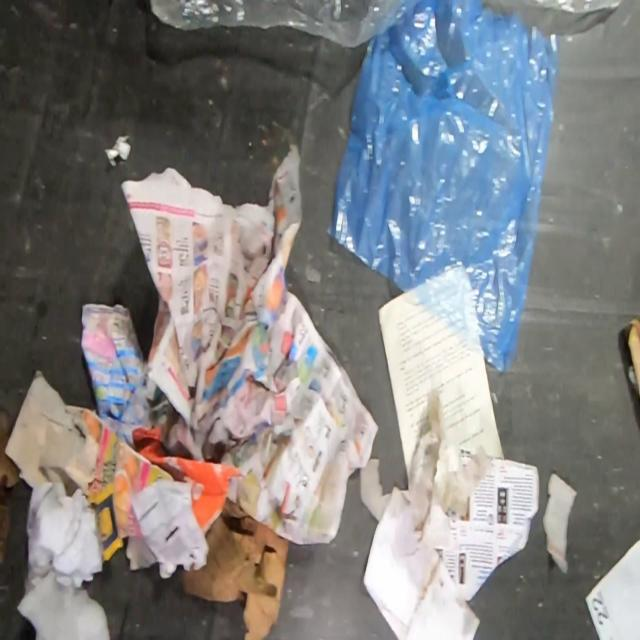cardboard: (3, 369, 174, 563), (181, 495, 290, 640), (130, 425, 243, 534), (0, 409, 22, 563), (623, 317, 640, 399)
soft_plastic: (326, 0, 561, 374), (148, 0, 421, 49), (521, 0, 622, 13)
